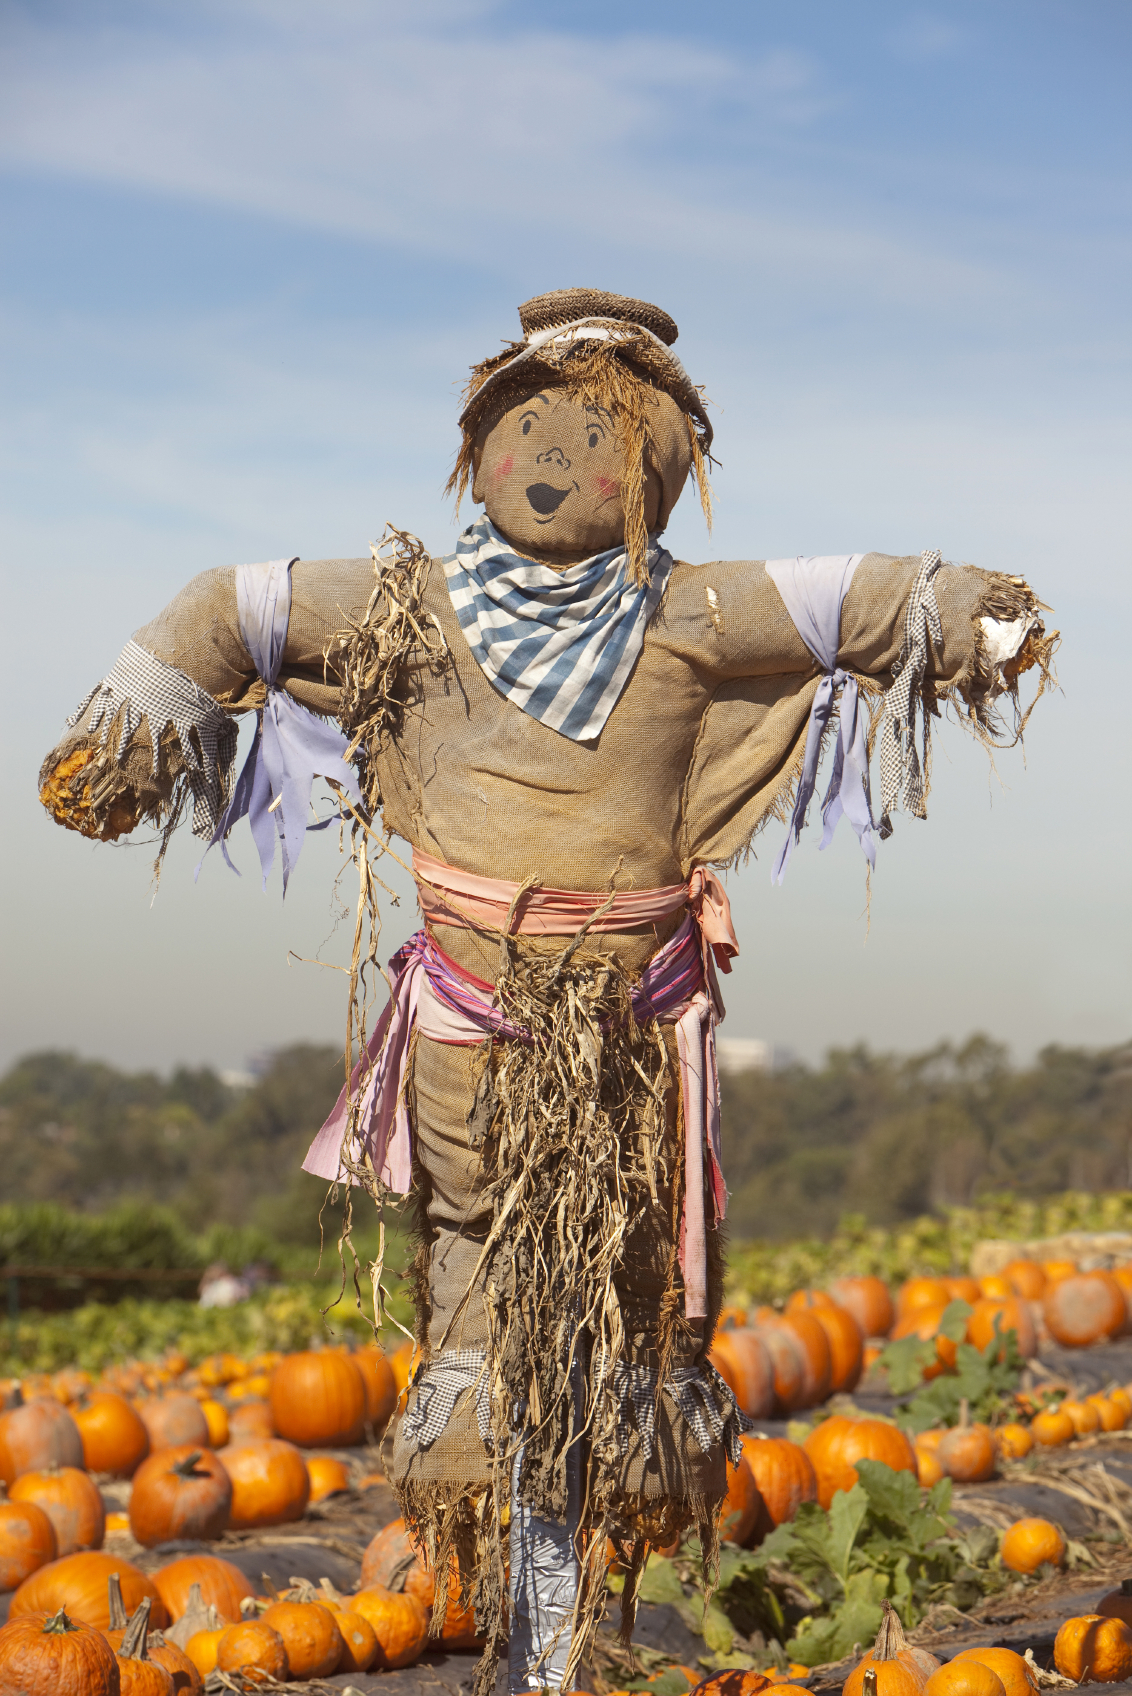person-like: (28, 277, 1064, 1548)
